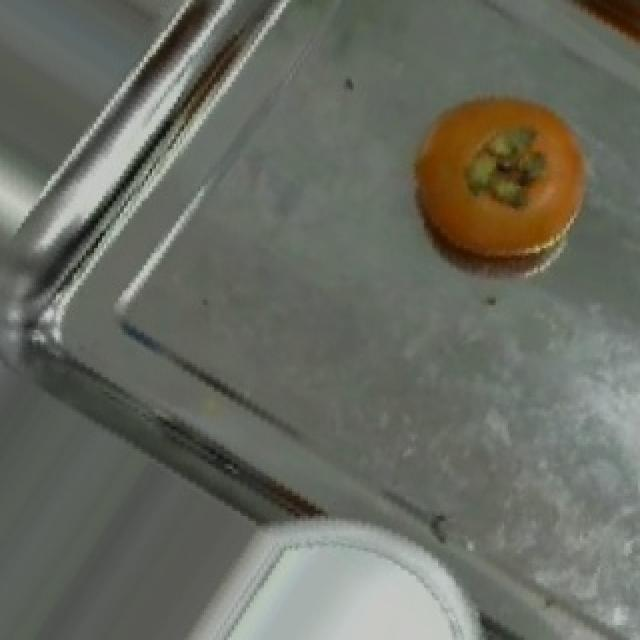Fruit: (388, 67, 618, 288)
